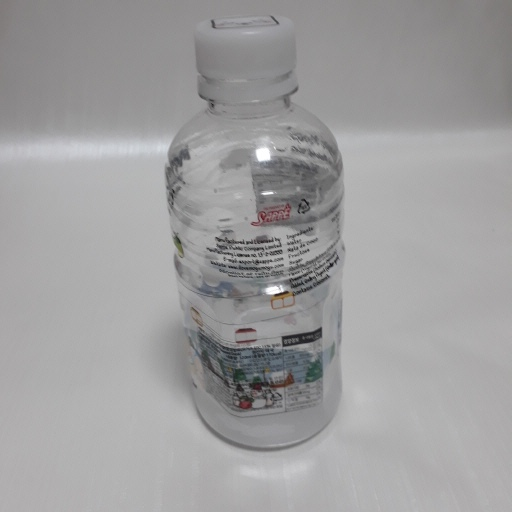Plastic_0: (166, 17, 345, 449)
